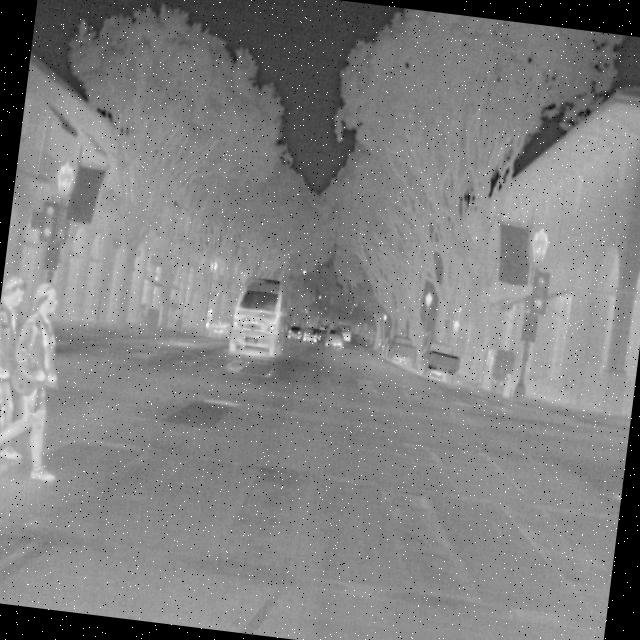Pedestrian: (0, 271, 81, 486), (0, 270, 44, 466), (203, 306, 214, 331)
Vehicle: (225, 272, 293, 362), (324, 327, 346, 349), (302, 326, 320, 344), (286, 324, 304, 341)
